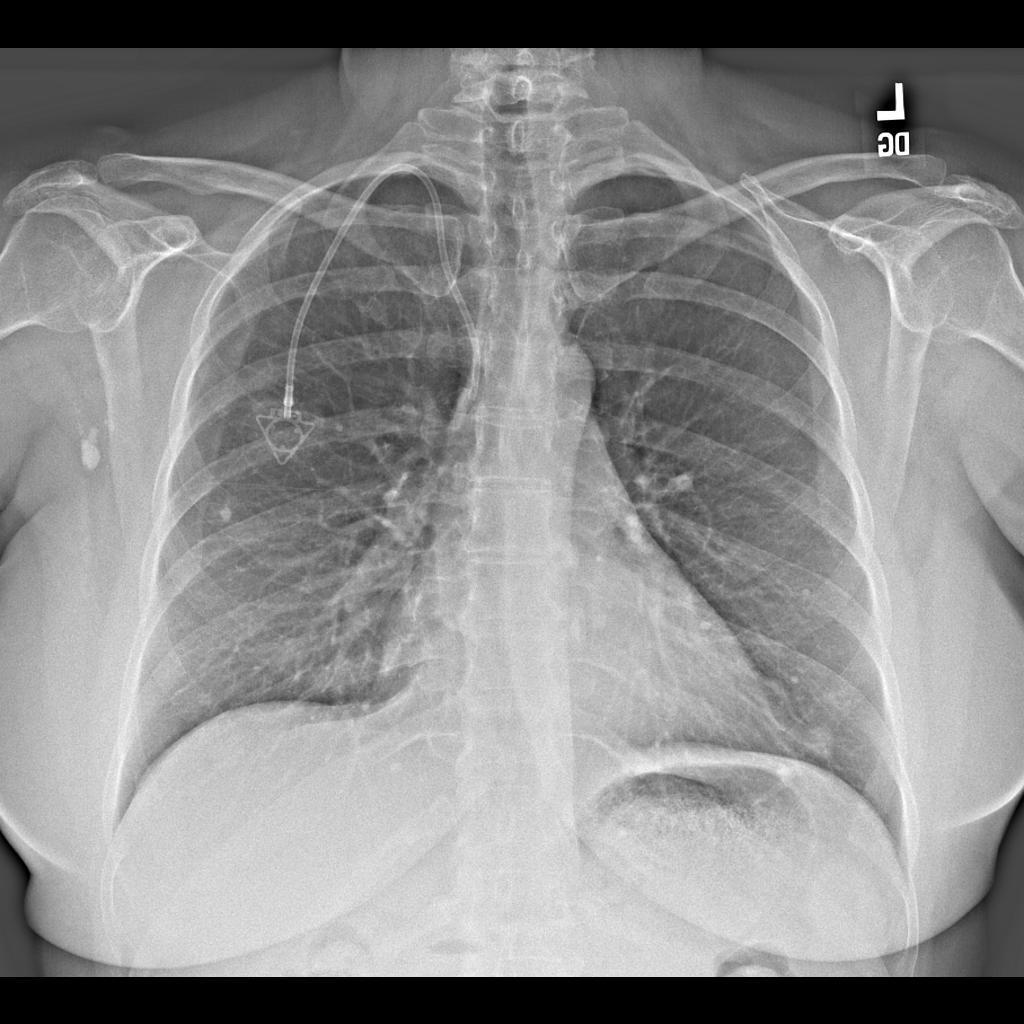Nodule: (803, 715, 848, 769)
